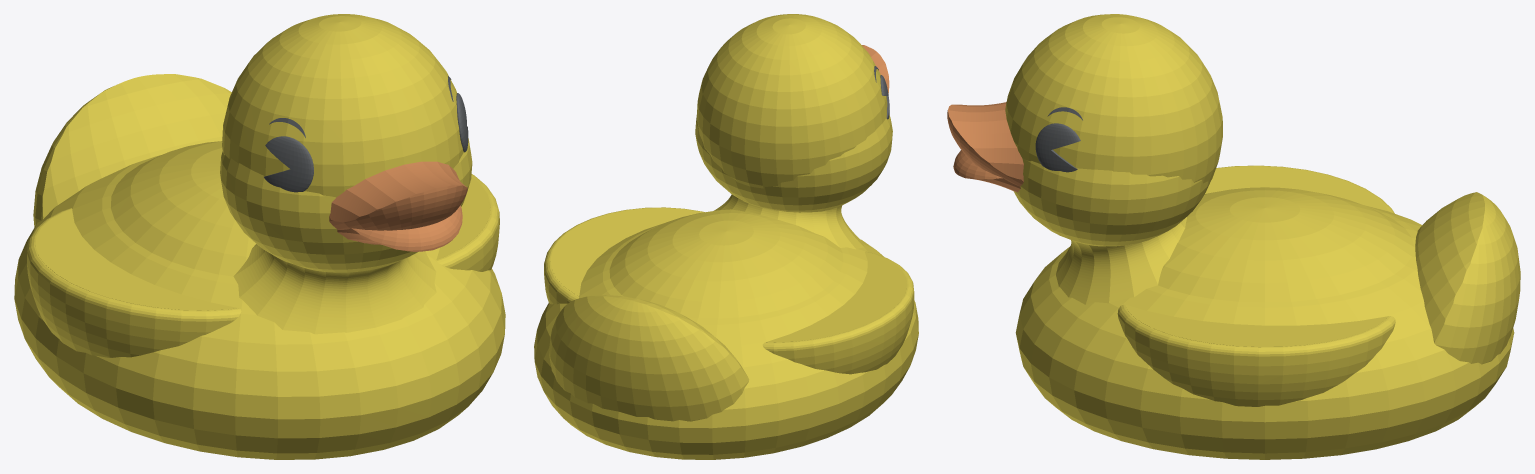
File: asset.glb
3 renders of one model, left to right at view 1: azimuth 30°, elevation 25°; view 2: azimuth 150°, elevation 25°; view 3: azimuth 270°, elevation 25°, orthographic. The views are drawn at different scales.
Parts seen in each view (by area): view 1: Mesh_Mesh_head_geo.001_lambert2SG.001; view 2: Mesh_Mesh_head_geo.001_lambert2SG.001; view 3: Mesh_Mesh_head_geo.001_lambert2SG.001.
Part boxes in pixels (x1,y1,x2,y2): Mesh_Mesh_head_geo.001_lambert2SG.001: [14, 14, 505, 459]; Mesh_Mesh_head_geo.001_lambert2SG.001: [534, 14, 918, 459]; Mesh_Mesh_head_geo.001_lambert2SG.001: [947, 14, 1520, 459].
Bounding box in the file's own units: 0.0766 × 0.0678 × 0.0989.
